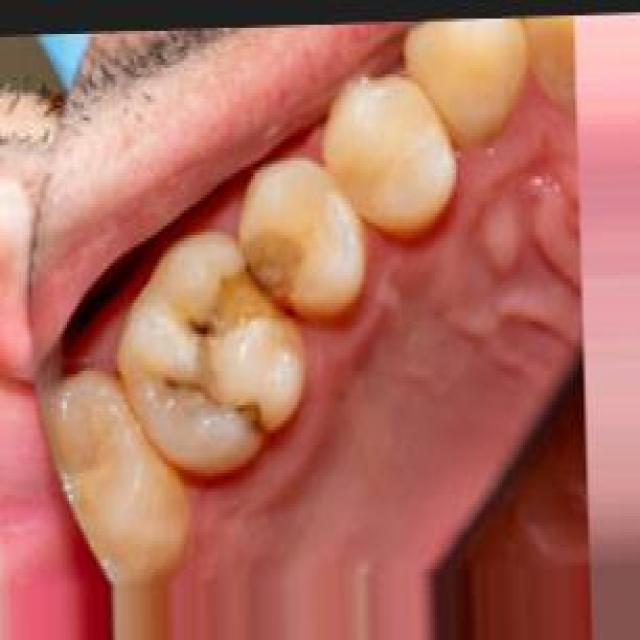caries: (188, 217, 305, 353), (155, 364, 226, 422), (226, 390, 274, 450)
